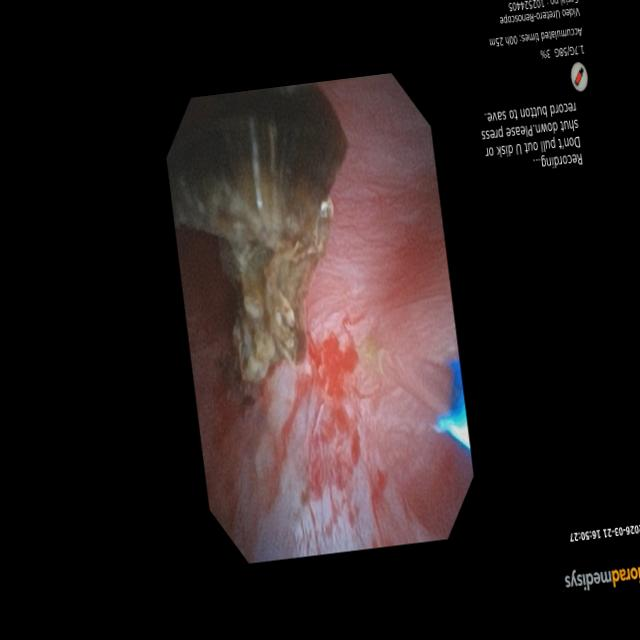laser-fibre: (382, 350, 453, 412)
stone-new: (167, 87, 347, 382)
